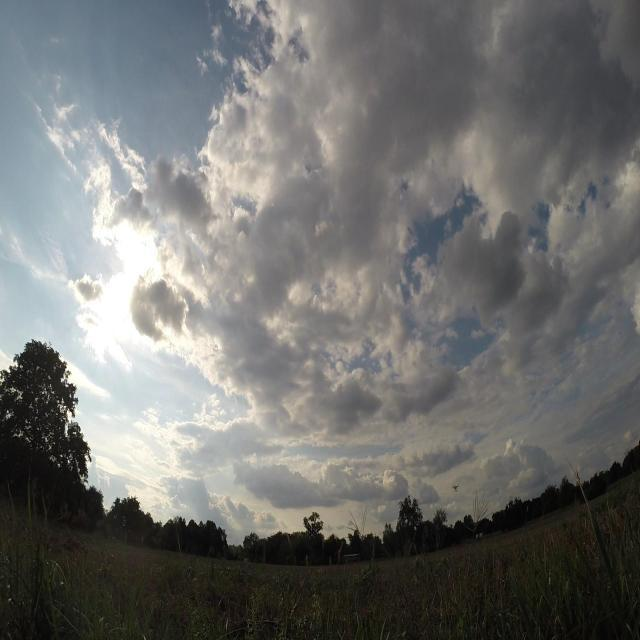drone: (451, 481, 462, 496)
